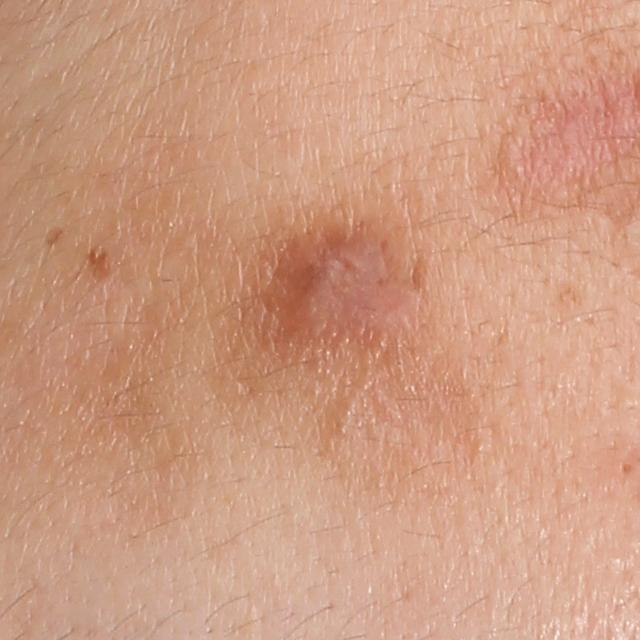comedo: (613, 455, 634, 479)
nevus: (86, 249, 111, 283)
